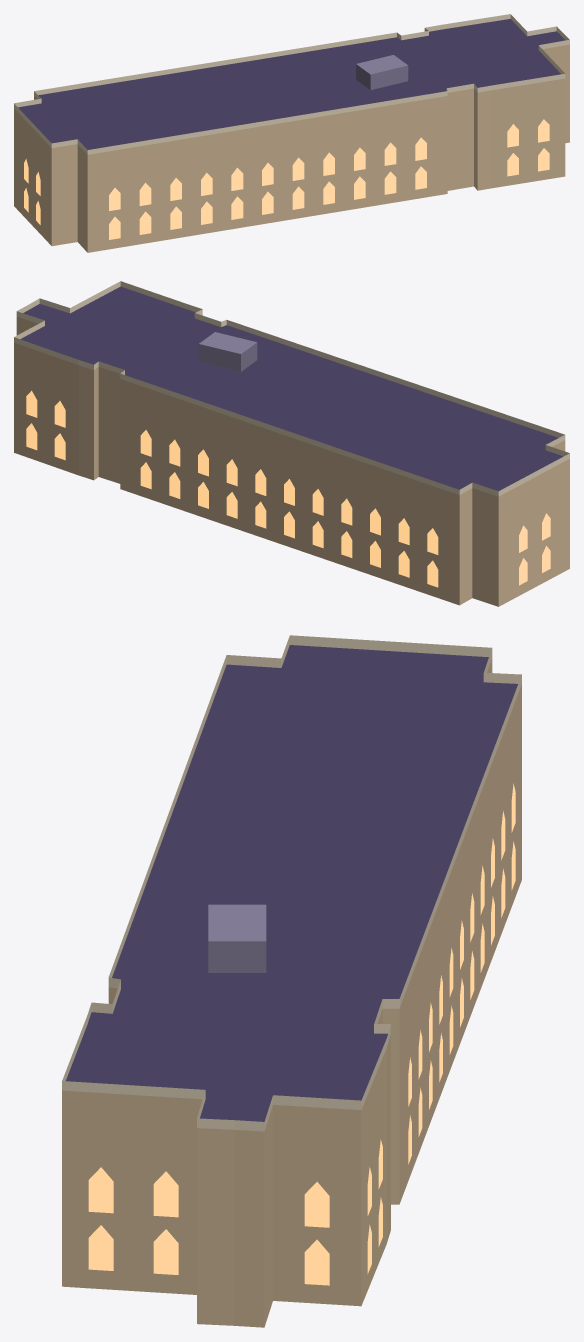
Rendered from b-085-don-rix-clinical-skills-building.glb.
3 views of the same model, one above another, from view 1: azimuth 30°, elevation 25°; view 2: azimuth 150°, elevation 25°; view 3: azimuth 270°, elevation 25° (orthographic). The views are drawn at different scales.
Parts seen in each view (by area): view 1: campus/b-085-don-rix-clinical-skills-building-0; view 2: campus/b-085-don-rix-clinical-skills-building-0; view 3: campus/b-085-don-rix-clinical-skills-building-0.
Boxes of the visible parts, x1,y1,x2,y2 form: campus/b-085-don-rix-clinical-skills-building-0: (14,14,569,252); campus/b-085-don-rix-clinical-skills-building-0: (14,281,569,606); campus/b-085-don-rix-clinical-skills-building-0: (62,635,521,1327).
Bounding box in the file's own units: 59.61 × 13 × 23.8.
